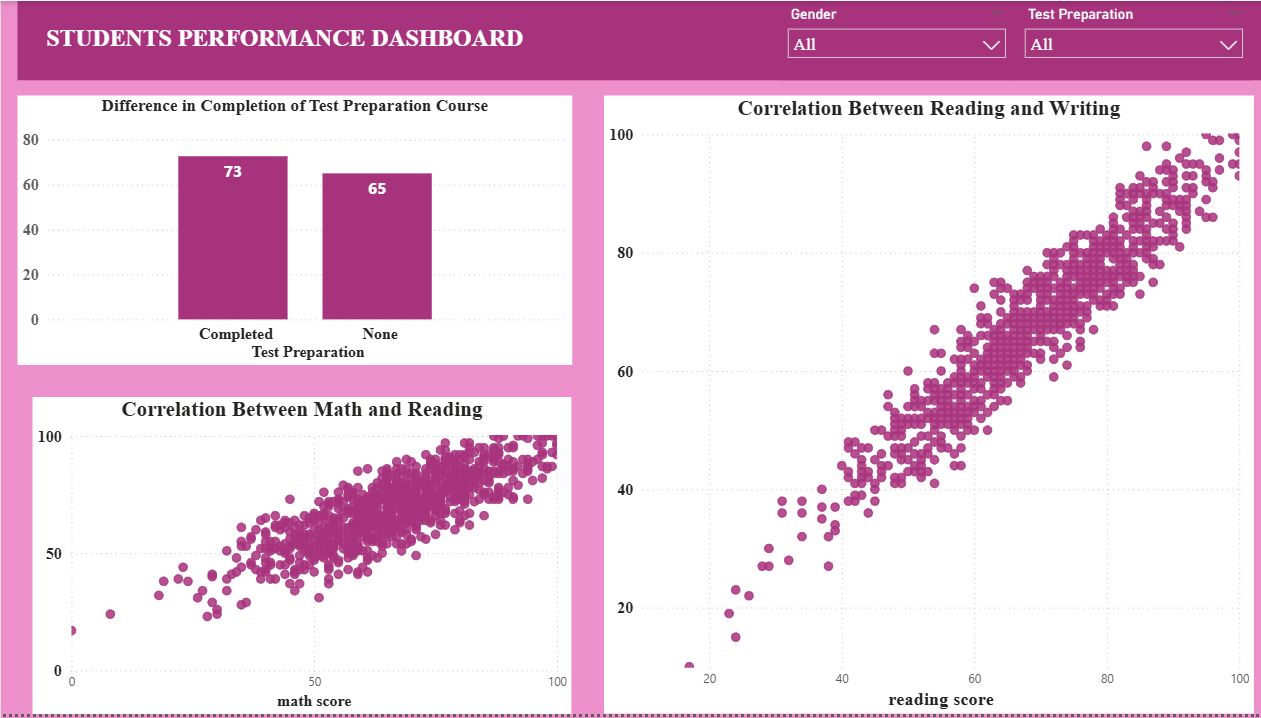

The page's visual inventory and layout, read from the dashboard file:
{"tool":"powerbi","page":{"name":"Page 2","canvas":[1280,720],"ordinal":1},"visuals":[{"type":"textbox","box":[16,0,1264,80],"z":0},{"type":"slicer","fields":{"Values":["Table (4).Test Preparation"]},"box":[1024,0,240,80],"z":2000},{"type":"slicer","fields":{"Values":["Table 1 (StudentsPerformance).gender"]},"box":[784,0,240,80],"z":3000},{"type":"columnChart","title":"Difference in Completion of Test Preparation Course","fields":{"Category":["Table (4).Test Preparation"],"Y":["Avg(Table (4).Average of Overall)"]},"box":[16,96,560,272],"z":4000},{"type":"scatterChart","title":"Correlation Between Reading and Writing","fields":{"X":["No  10.reading score"],"Y":["No  10.writing score"]},"box":[608,96,656,624],"z":5000},{"type":"scatterChart","title":"Correlation Between Math and Reading","fields":{"X":["No  11.math score"],"Y":["No  11.reading score"]},"box":[32,400,544,320],"z":6000}]}

Visuals, with their boxes in screenshot pixels (x1, y1, x2, y2), scaled from the page's 1280x720 canvas onto the 1261x718 screenshot:
textbox: select_region(16, 0, 1260, 80)
slicer - Table (4).Test Preparation: select_region(1009, 0, 1245, 80)
slicer - Table 1 (StudentsPerformance).gender: select_region(772, 0, 1009, 80)
"Difference in Completion of Test Preparation Course" columnChart: select_region(16, 96, 567, 367)
"Correlation Between Reading and Writing" scatterChart: select_region(599, 96, 1245, 717)
"Correlation Between Math and Reading" scatterChart: select_region(32, 399, 567, 717)
